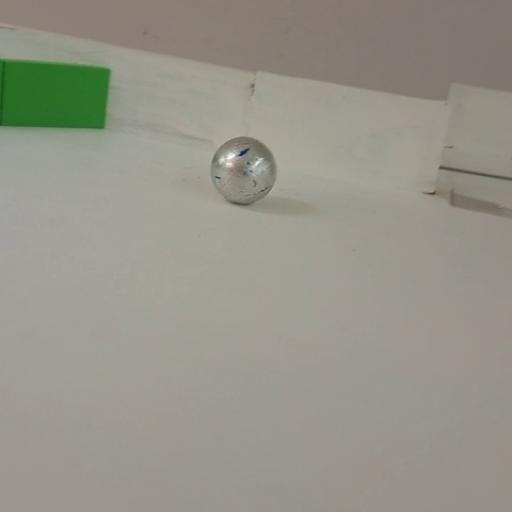alive: (209, 135, 276, 204)
